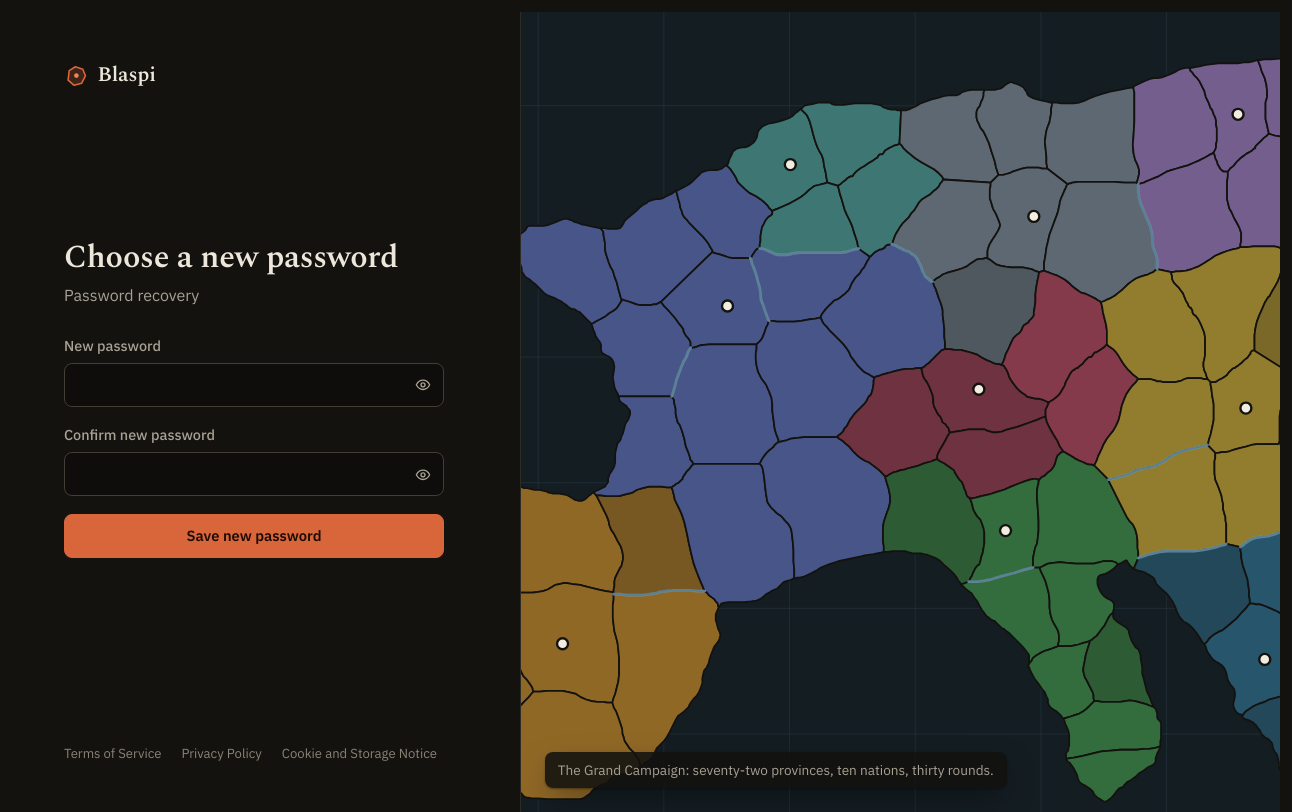
ResetPasswordPage › sets the new password during recovery
Type "brand-new-pass" into the password field labelled "New password".
click(254, 385); type("brand-new-pass")  # box x1=64 y1=363 x2=444 y2=407
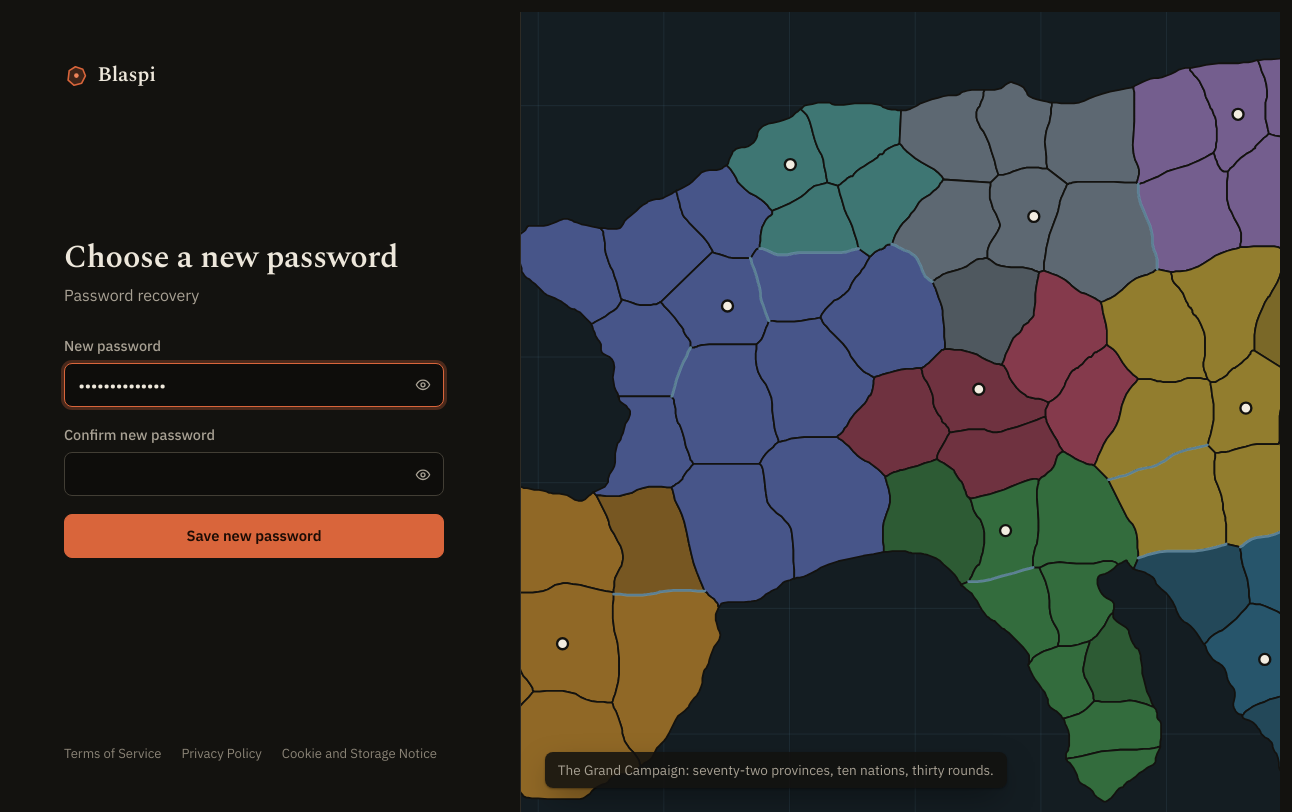
Type "brand-new-pass" into the password field labelled "Confirm new password".
click(254, 474); type("brand-new-pass")  # box x1=64 y1=452 x2=444 y2=496
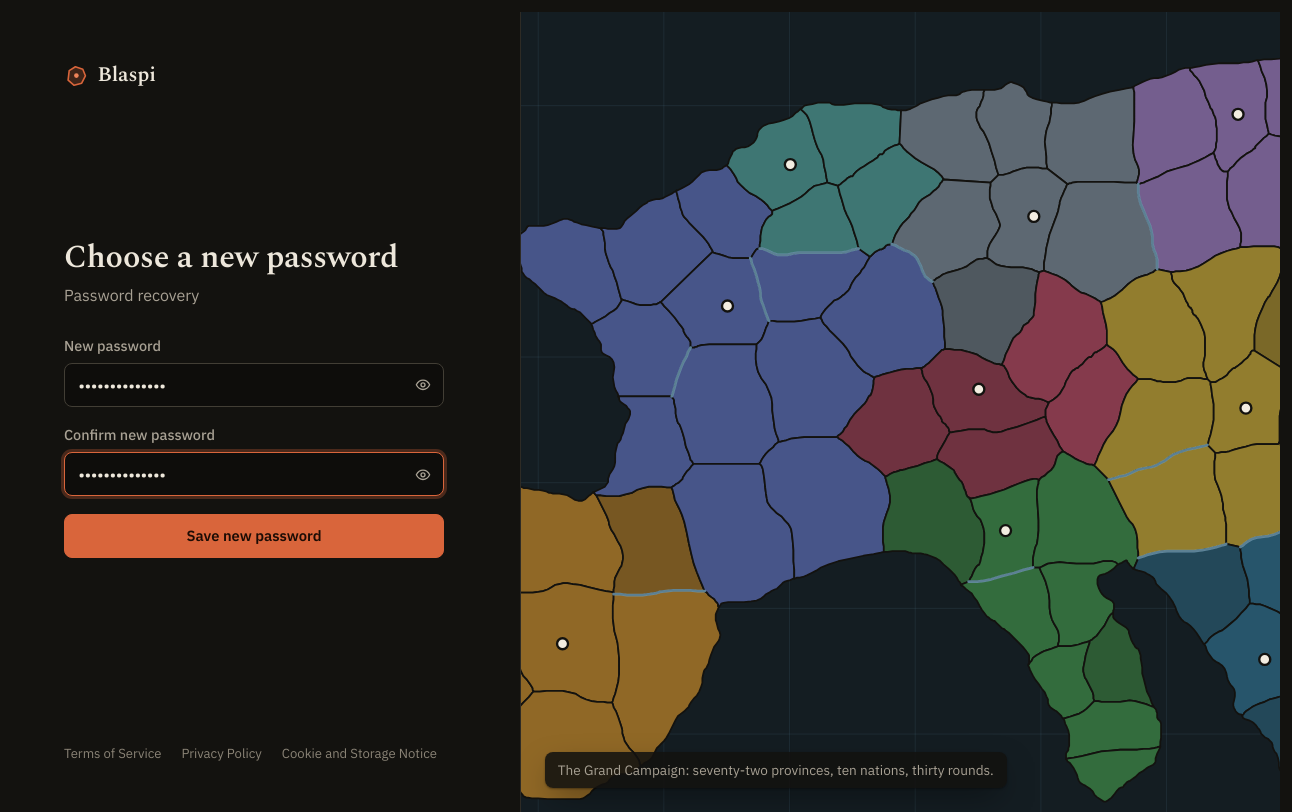
Click the button "Save new password".
click(254, 536)  # box x1=64 y1=514 x2=444 y2=558
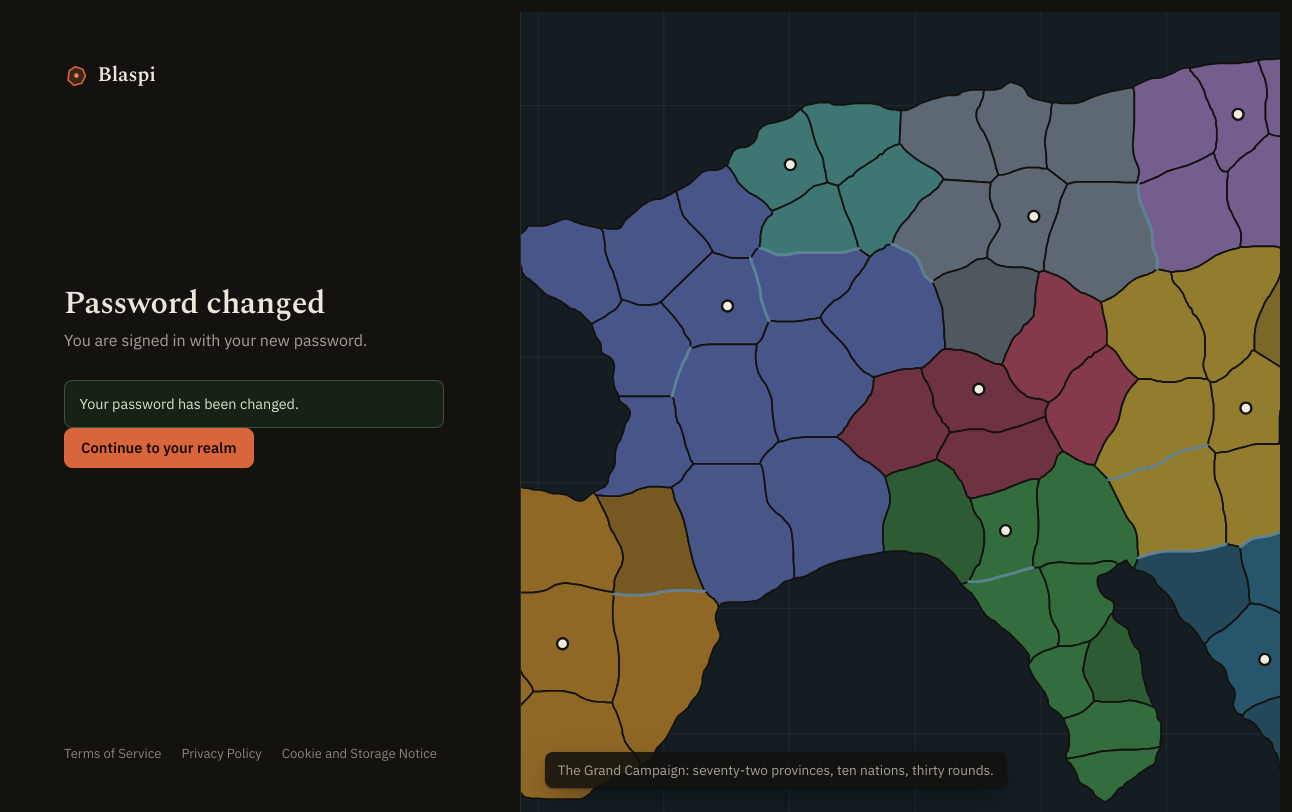
Check: the text "Your password has been changed." is shown, box x1=64 y1=380 x2=444 y2=428
